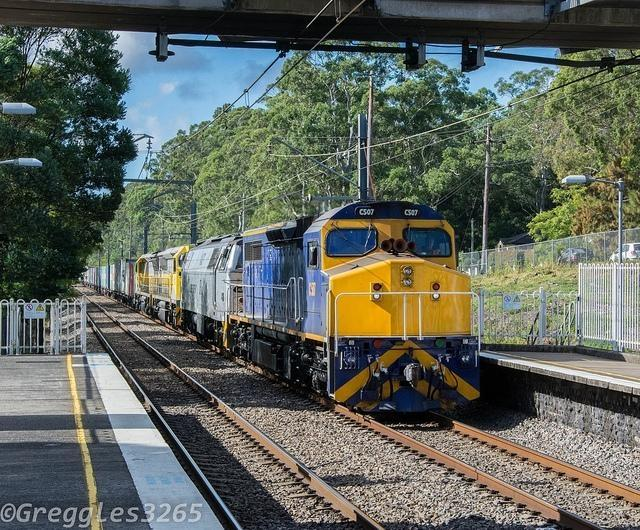car: (609, 242, 640, 262), (557, 248, 587, 264)
